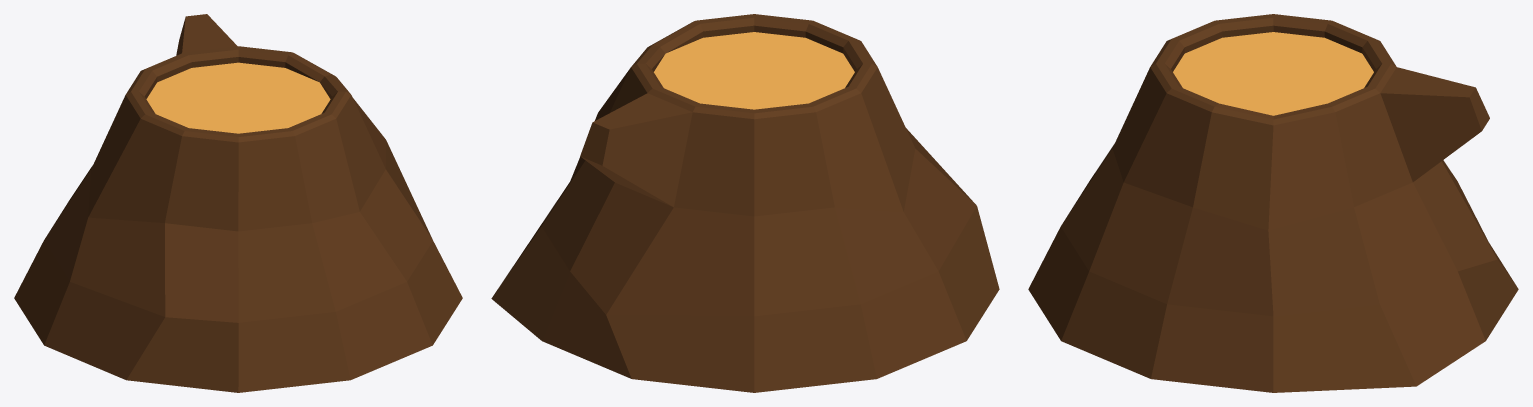
Rendered from treeroot01.fbx.
3 views of the same model, side by side, from view 1: azimuth 30°, elevation 25°; view 2: azimuth 150°, elevation 25°; view 3: azimuth 270°, elevation 25° (orthographic). The views are drawn at different scales.
Parts seen in each view (by area): view 1: kesilmisagac; view 2: kesilmisagac; view 3: kesilmisagac.
Part boxes in pixels (x1,y1,x2,y2): kesilmisagac: (14,14,462,392); kesilmisagac: (491,14,999,392); kesilmisagac: (1028,14,1518,392).
Size of the model in its own units: 0.3142 by 0.1622 by 0.3142.
